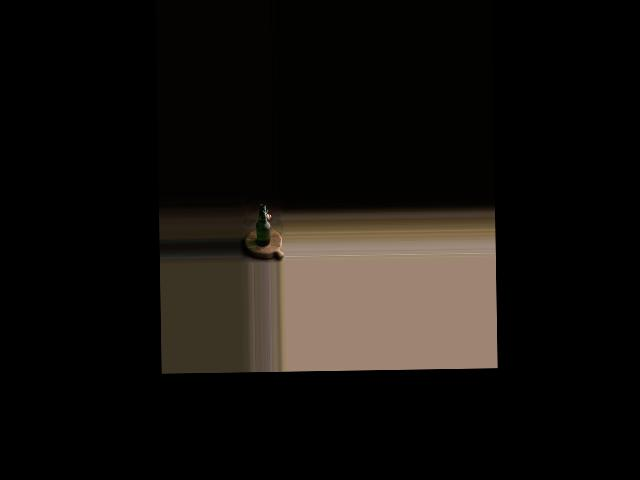beer: (256, 203, 270, 245)
